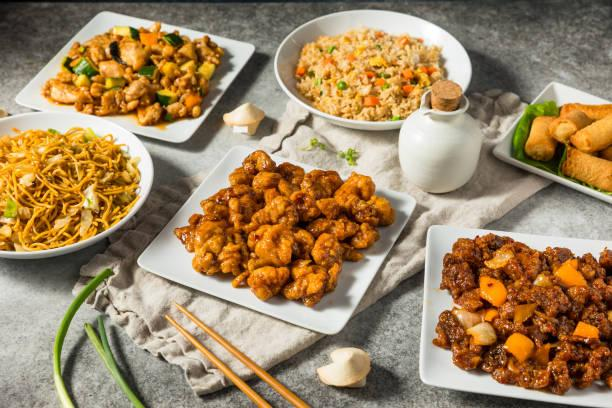Braised Crucian Carp: (135, 144, 407, 333), (417, 224, 609, 407), (14, 10, 252, 144), (273, 9, 468, 132), (1, 110, 154, 258), (492, 81, 611, 216)
